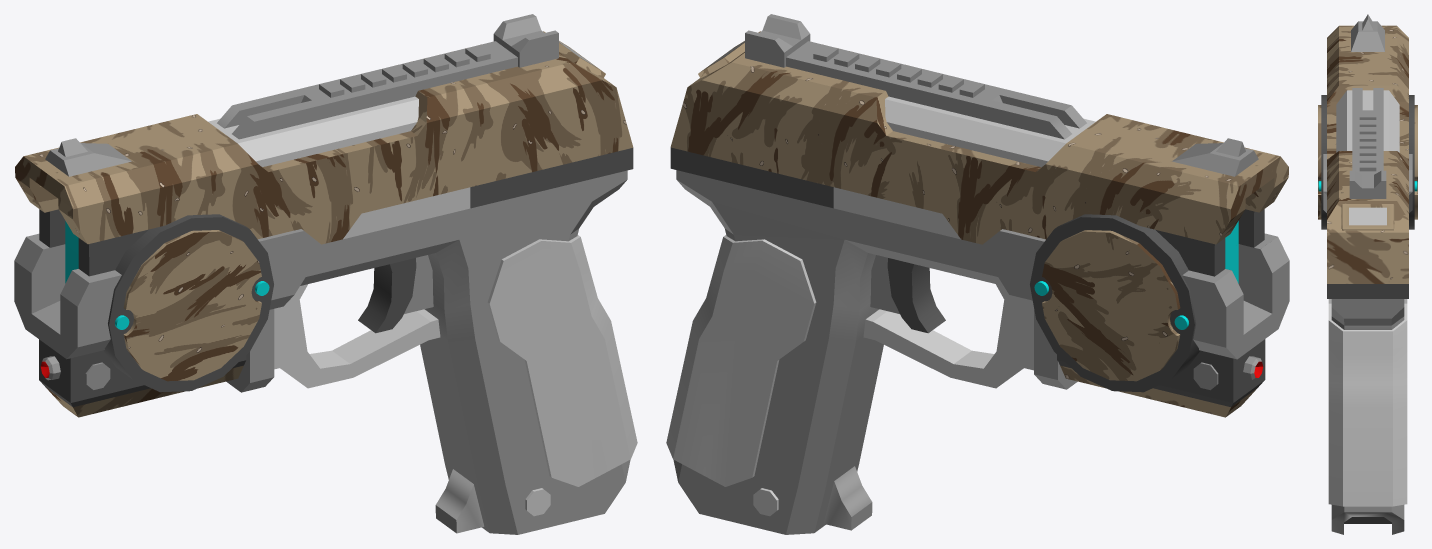
The model's file is SM_Pistol.fbx.
3 views of the same model, side by side, from view 1: azimuth 30°, elevation 25°; view 2: azimuth 150°, elevation 25°; view 3: azimuth 270°, elevation 25° (orthographic). The views are drawn at different scales.
Visible parts, largest first — view 1: SM_Pistol, SM_Pistol_Trigger; view 2: SM_Pistol, SM_Pistol_Trigger; view 3: SM_Pistol.
Part boxes in pixels (x1=…): SM_Pistol: x1=14, y1=14, x2=637, y2=534; SM_Pistol_Trigger: x1=358, y1=255, x2=433, y2=333; SM_Pistol: x1=666, y1=14, x2=1289, y2=534; SM_Pistol_Trigger: x1=870, y1=255, x2=945, y2=333; SM_Pistol: x1=1318, y1=14, x2=1417, y2=534.
Bounding box in the file's own units: 20.27 × 16.26 × 4.31.
